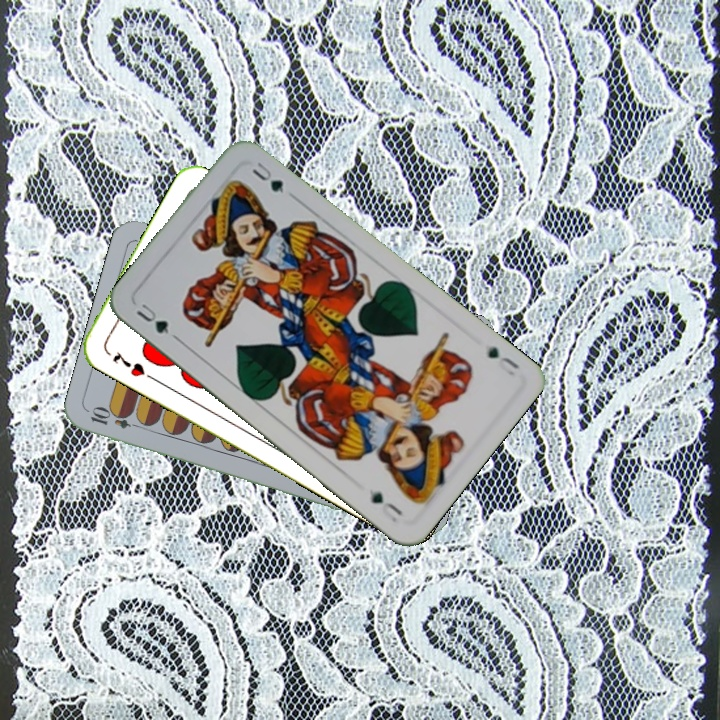E10: (86, 405, 145, 432)
GU: (132, 298, 172, 337), (483, 342, 522, 379)
H7: (108, 347, 158, 383)
